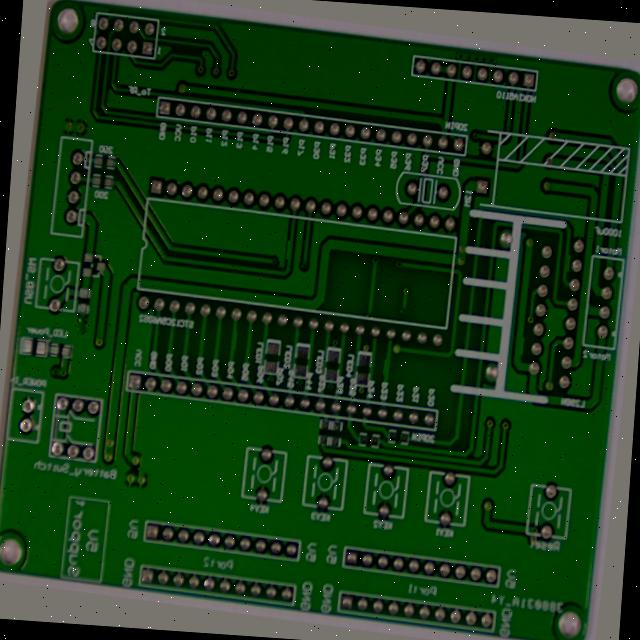spur: (380, 352, 400, 377), (275, 231, 290, 260), (223, 334, 238, 362), (521, 319, 536, 346), (566, 227, 578, 256)
